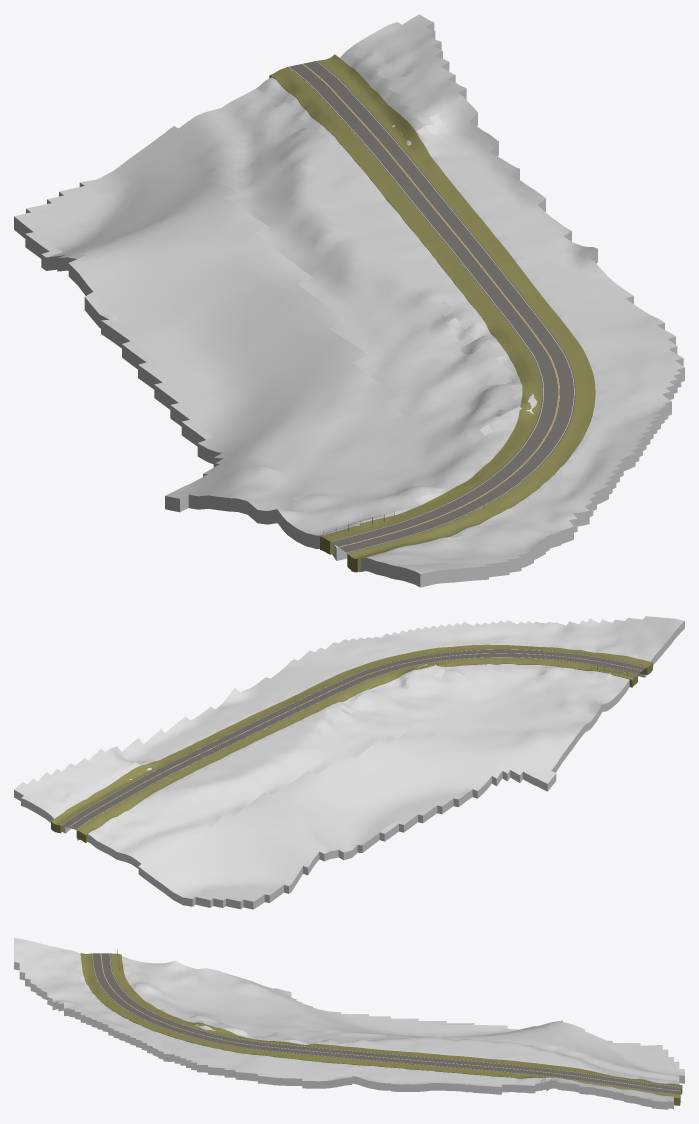
The model's file is conz_56.glb.
3 views of the same model, one above another, from view 1: azimuth 30°, elevation 25°; view 2: azimuth 150°, elevation 25°; view 3: azimuth 270°, elevation 25° (orthographic). The views are drawn at different scales.
Visible parts, largest first — view 1: terrain56, road56, verge56R, verge56L, paint_white56, paint_yellow56; view 2: terrain56, road56, verge56L, verge56R, paint_white56, paint_yellow56; view 3: terrain56, road56, verge56R, verge56L, paint_white56, paint_yellow56.
Boxes of the visible parts, x1,y1,x2,y2 form: terrain56: (14, 14, 684, 587); road56: (287, 61, 575, 553); verge56R: (317, 54, 595, 572); verge56L: (269, 67, 542, 554); paint_white56: (288, 61, 574, 552); paint_yellow56: (302, 63, 559, 547); terrain56: (14, 616, 684, 909); road56: (61, 649, 646, 829); verge56L: (76, 657, 637, 842); verge56R: (51, 644, 652, 833); paint_white56: (61, 649, 646, 829); paint_yellow56: (68, 653, 641, 827); terrain56: (14, 938, 684, 1109); road56: (91, 953, 681, 1094); verge56R: (80, 953, 680, 1105); verge56L: (110, 953, 682, 1094); paint_white56: (92, 953, 681, 1094); paint_yellow56: (100, 953, 680, 1091).
Size of the model in its own units: 138 by 28.02 by 242.
